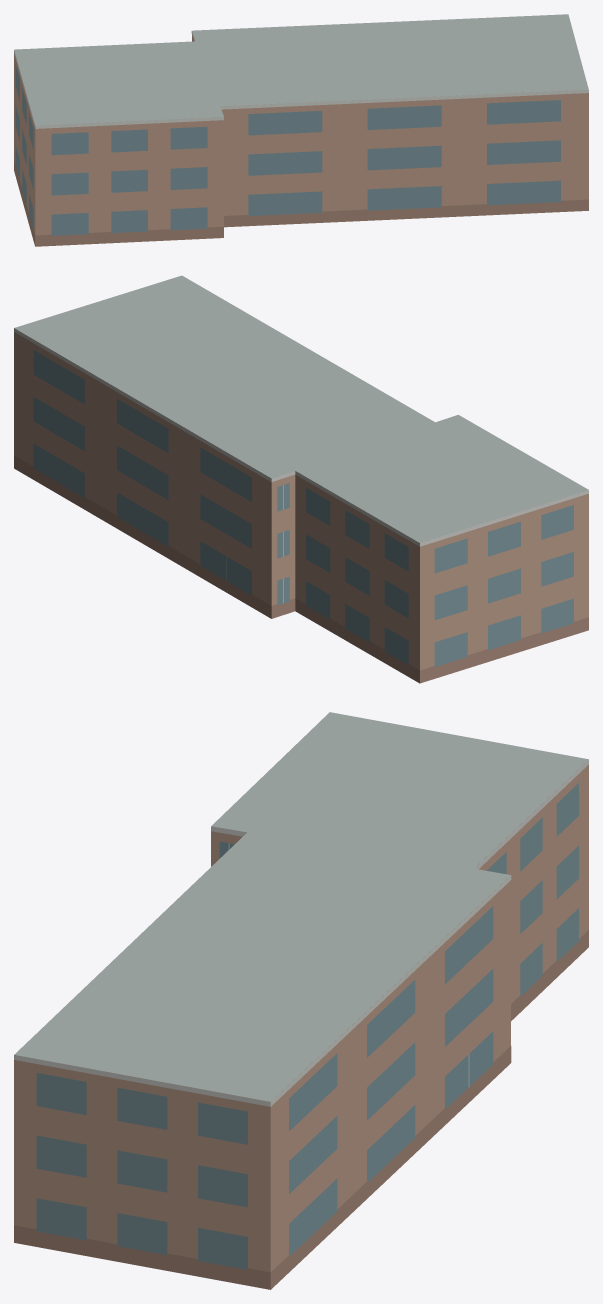
Rendered from survey-upis-32572377.glb.
3 renders of one model, top to bottom at view 1: azimuth 30°, elevation 25°; view 2: azimuth 150°, elevation 25°; view 3: azimuth 270°, elevation 25°, orthographic. The views are drawn at different scales.
Parts seen in each view (by area): view 1: survey-upis-32572377.tmp; view 2: survey-upis-32572377.tmp; view 3: survey-upis-32572377.tmp.
Part boxes in pixels (bbox=[...]): survey-upis-32572377.tmp: bbox=[14, 14, 588, 246]; survey-upis-32572377.tmp: bbox=[14, 275, 588, 683]; survey-upis-32572377.tmp: bbox=[14, 712, 588, 1289].
Bounding box in the file's own units: 40.71 × 9.15 × 25.37.
